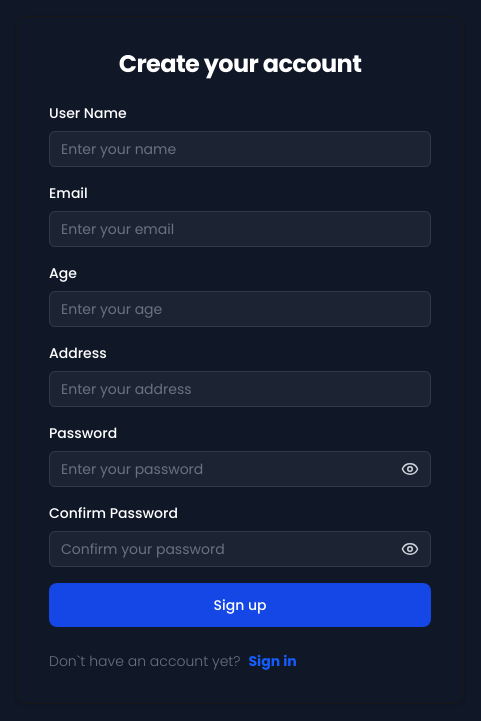
Test: RegisterForm component › toggles password visibility for both password fields
Click the 1st button named "show password" at (410, 469), box [401,451,419,487]
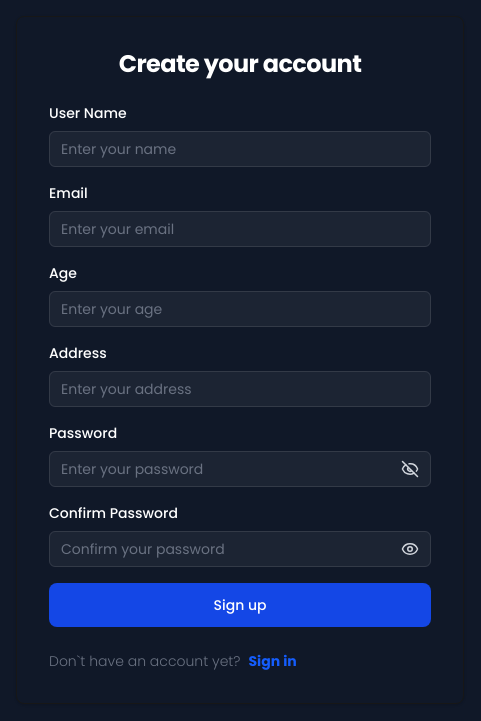
expect the button named "hide password" is shown: met, box [401,451,419,487]
